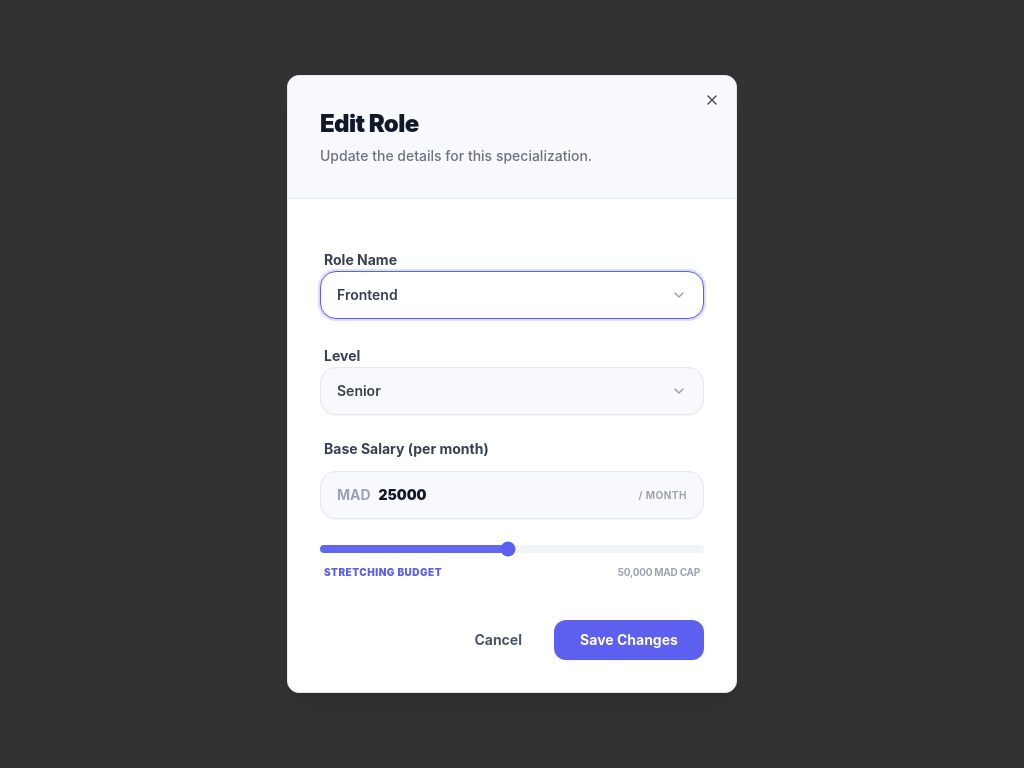
it: EditSpecializationModal › doit afficher une erreur si le salaire est invalide au submit
Replace the text in the number field with placeholder "0.00" with "0" at (504, 495), box top-left (379, 485), bottom-right (630, 505)
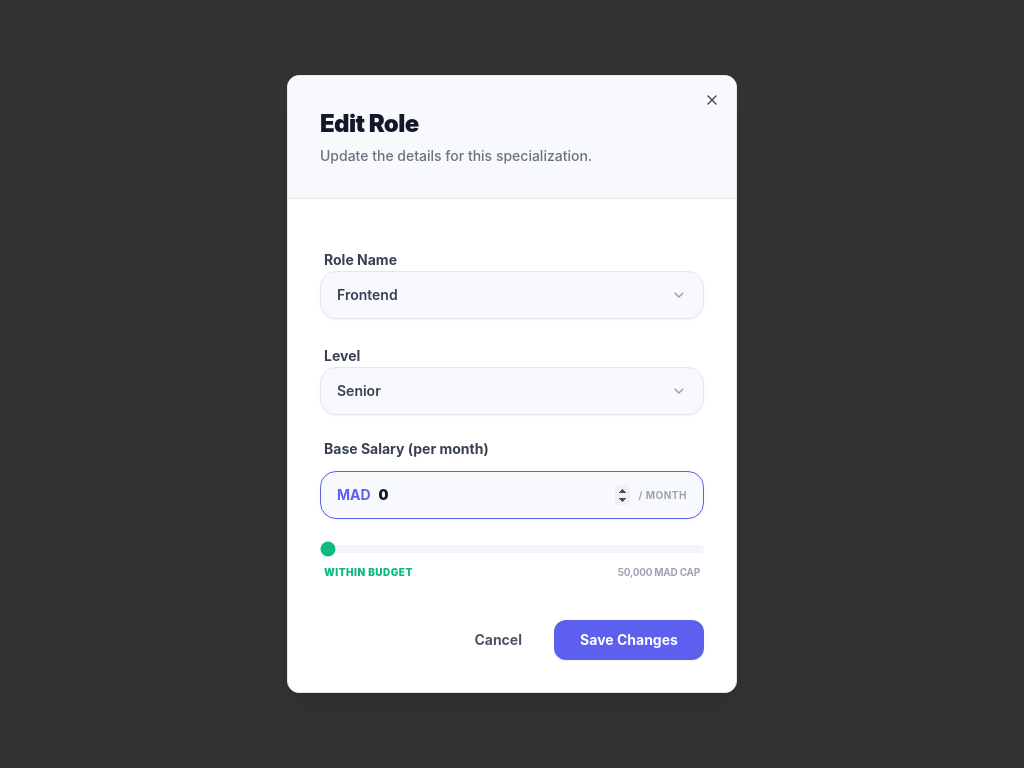
Click the button "Save Changes" at (629, 640), box top-left (554, 620), bottom-right (704, 660)
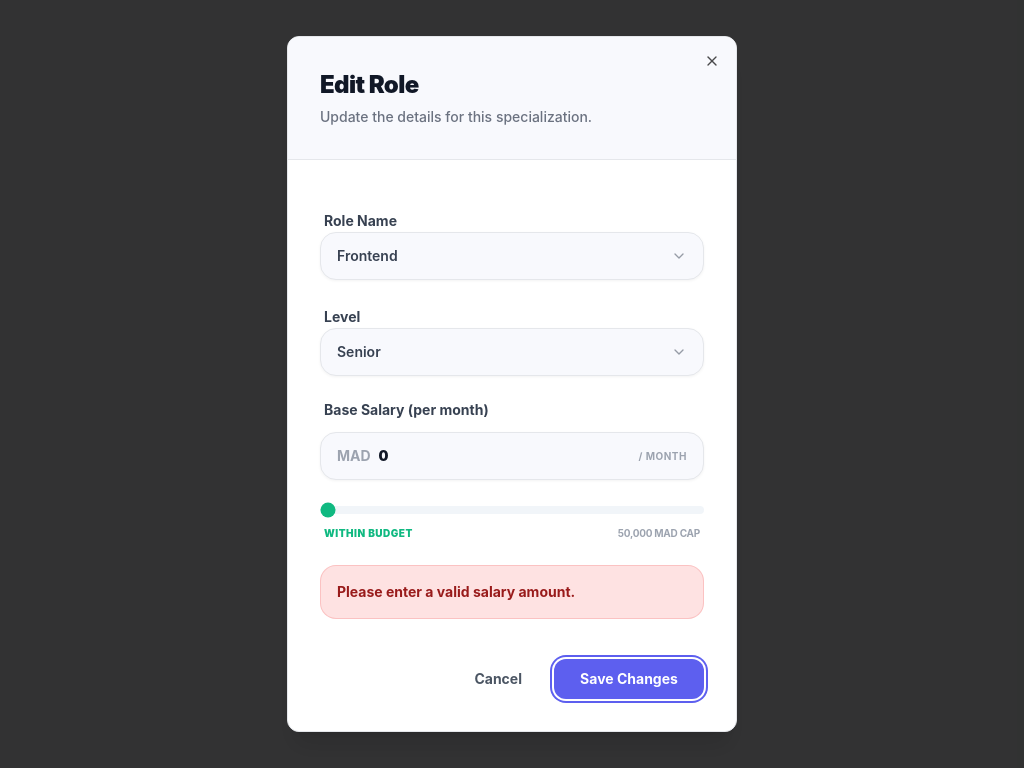
Check: the text "Please enter a valid salary amount." is shown, box top-left (320, 565), bottom-right (704, 619)
